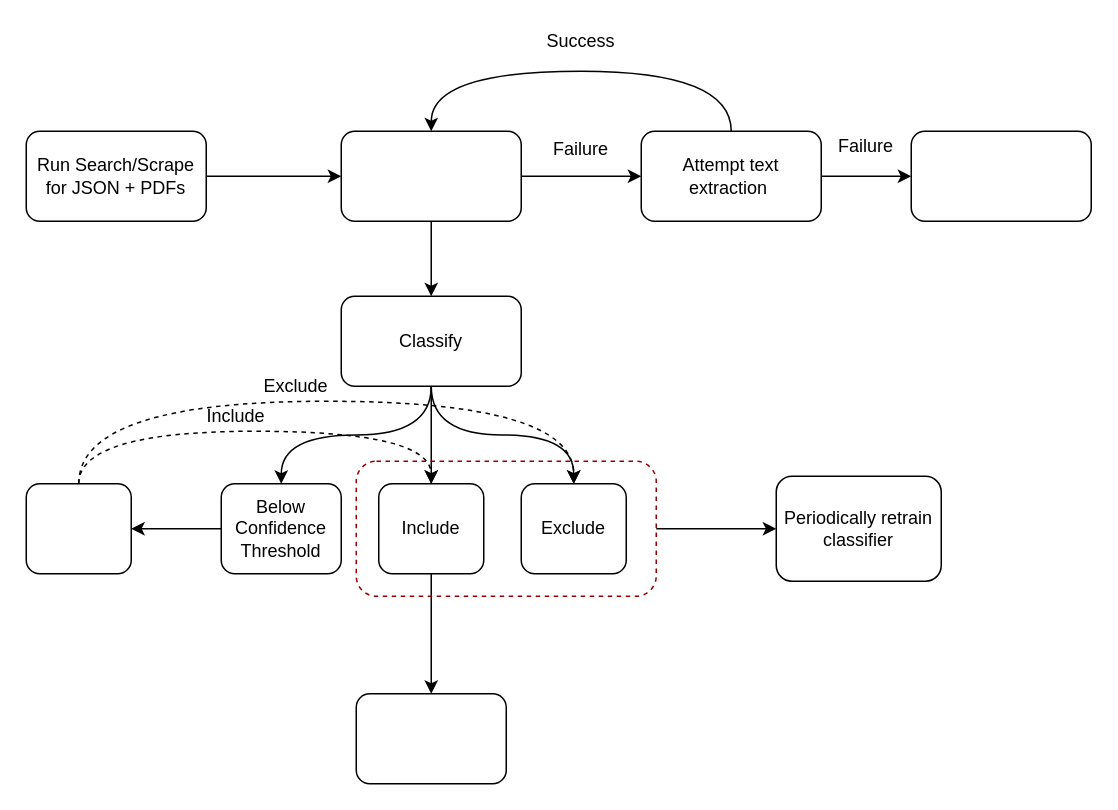
Some shapes in this 1118 by 810 pixel diagram are drawn without their labels. Here are the shapes that lost their labels. From the top down, the box of each, then its label:
(340, 130, 521, 221): Upload Docs to Zotero as Unsorted
(910, 130, 1091, 221): Delete from Zotero
(25, 482, 131, 574): Email SEBI
(355, 692, 506, 784): Phrase extraction
